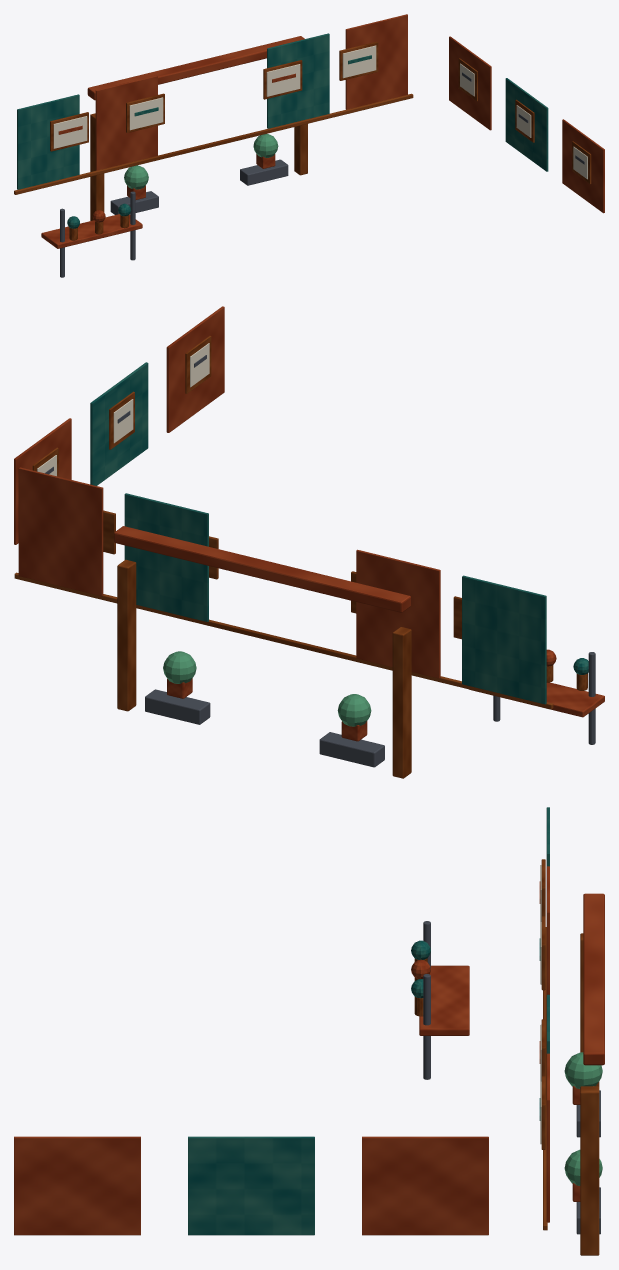
Rendered from bright-studio-composition-pbr-v1.glb.
3 renders of one model, top to bottom at view 1: azimuth 30°, elevation 25°; view 2: azimuth 150°, elevation 25°; view 3: azimuth 270°, elevation 25°, orthographic. The views are drawn at different scales.
Parts seen in each view (by area): view 1: studio-back-gallery-panel, studio-back-gallery-panel.001, studio-back-gallery-panel.003, studio-back-gallery-panel.002, studio-side-gallery-panel.001, studio-side-gallery-panel.002, studio-side-gallery-panel, studio-courtyard-arch, studio-back-gallery-rail, studio-workbench-top, studio-courtyard-post, studio-back-art-canvas (+12 smaller); view 2: studio-back-gallery-panel.003, studio-back-gallery-panel, studio-back-gallery-panel.001, studio-back-gallery-panel.002, studio-courtyard-arch, studio-side-gallery-panel, studio-side-gallery-panel.001, studio-courtyard-post.001, studio-courtyard-post, studio-back-gallery-rail, studio-side-gallery-panel.002, studio-courtyard-bench (+4 smaller); view 3: studio-side-gallery-panel, studio-side-gallery-panel.001, studio-side-gallery-panel.002, studio-courtyard-arch, studio-courtyard-post.001, studio-workbench-top, studio-courtyard-plant, studio-back-gallery-rail, studio-back-gallery-panel.003.
Boxes of the visible parts, x1=… form: studio-back-gallery-panel: x1=17, y1=94, x2=79, y2=189; studio-back-gallery-panel.001: x1=95, y1=75, x2=157, y2=170; studio-back-gallery-panel.003: x1=345, y1=14, x2=407, y2=109; studio-back-gallery-panel.002: x1=267, y1=33, x2=329, y2=128; studio-side-gallery-panel.001: x1=505, y1=78, x2=548, y2=171; studio-side-gallery-panel.002: x1=449, y1=36, x2=491, y2=130; studio-side-gallery-panel: x1=562, y1=119, x2=604, y2=213; studio-courtyard-arch: x1=87, y1=36, x2=304, y2=100; studio-back-gallery-rail: x1=14, y1=93, x2=413, y2=194; studio-workbench-top: x1=41, y1=214, x2=142, y2=248; studio-courtyard-post: x1=90, y1=113, x2=104, y2=220; studio-back-art-canvas: x1=53, y1=116, x2=87, y2=148; studio-back-gallery-panel.003: x1=18, y1=467, x2=103, y2=596; studio-back-gallery-panel: x1=462, y1=575, x2=546, y2=704; studio-back-gallery-panel.001: x1=356, y1=549, x2=440, y2=678; studio-back-gallery-panel.002: x1=124, y1=493, x2=208, y2=621; studio-courtyard-arch: x1=114, y1=526, x2=410, y2=612; studio-side-gallery-panel: x1=166, y1=306, x2=224, y2=432; studio-side-gallery-panel.001: x1=90, y1=362, x2=148, y2=485; studio-courtyard-post.001: x1=117, y1=559, x2=136, y2=711; studio-courtyard-post: x1=392, y1=627, x2=411, y2=778; studio-back-gallery-rail: x1=14, y1=572, x2=553, y2=709; studio-side-gallery-panel.002: x1=14, y1=418, x2=71, y2=544; studio-courtyard-bench: x1=319, y1=732, x2=384, y2=767; studio-side-gallery-panel: x1=14, y1=1136, x2=140, y2=1235; studio-side-gallery-panel.001: x1=188, y1=1136, x2=314, y2=1235; studio-side-gallery-panel.002: x1=362, y1=1136, x2=488, y2=1235; studio-courtyard-arch: x1=583, y1=893, x2=604, y2=1065; studio-courtyard-post.001: x1=580, y1=1086, x2=599, y2=1255; studio-workbench-top: x1=419, y1=965, x2=469, y2=1035; studio-courtyard-plant: x1=564, y1=1052, x2=602, y2=1088; studio-back-gallery-rail: x1=543, y1=927, x2=547, y2=1230; studio-back-gallery-panel.003: x1=546, y1=1053, x2=549, y2=1222.
Size of the model in its own units: 8.52 by 2.83 by 6.8.
Materials: 6 (3 with a texture image).
